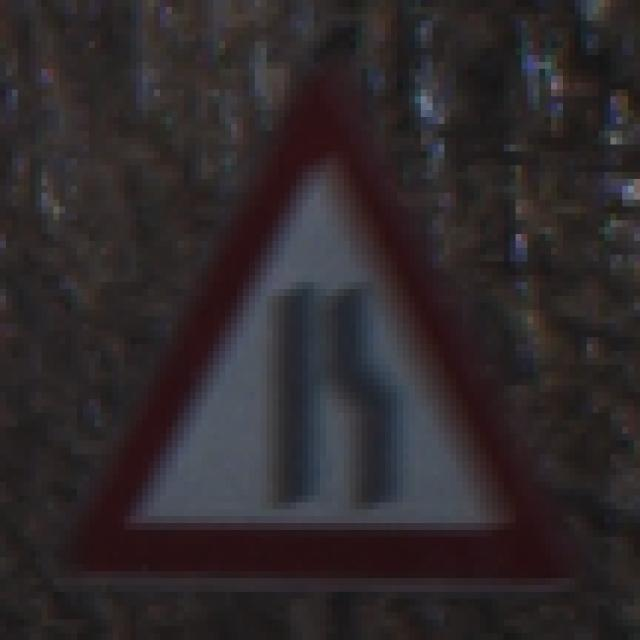narrow road ahead: (44, 78, 567, 597)
